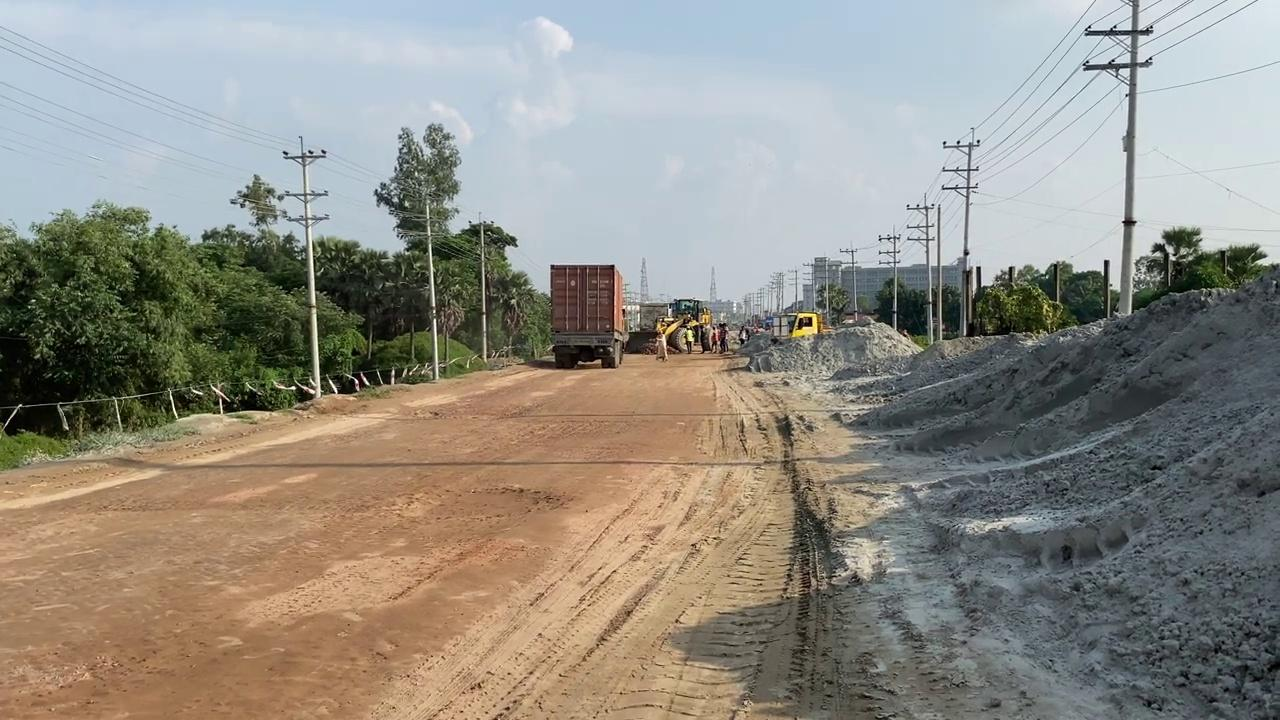Garbage: (891, 256, 1280, 692)
Pole: (277, 135, 329, 398), (941, 127, 980, 337), (424, 195, 440, 381), (478, 211, 489, 364)
Tree: (548, 262, 625, 369), (654, 297, 715, 354), (624, 315, 689, 355), (770, 311, 831, 344)
